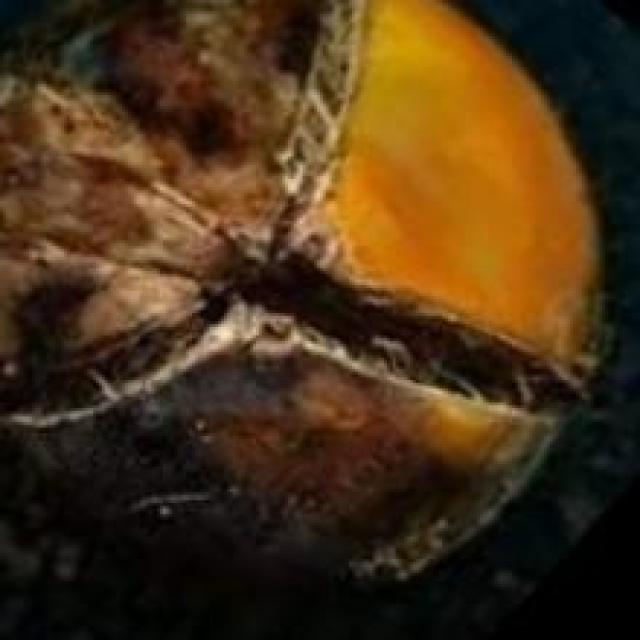damaged: (0, 0, 604, 630)
